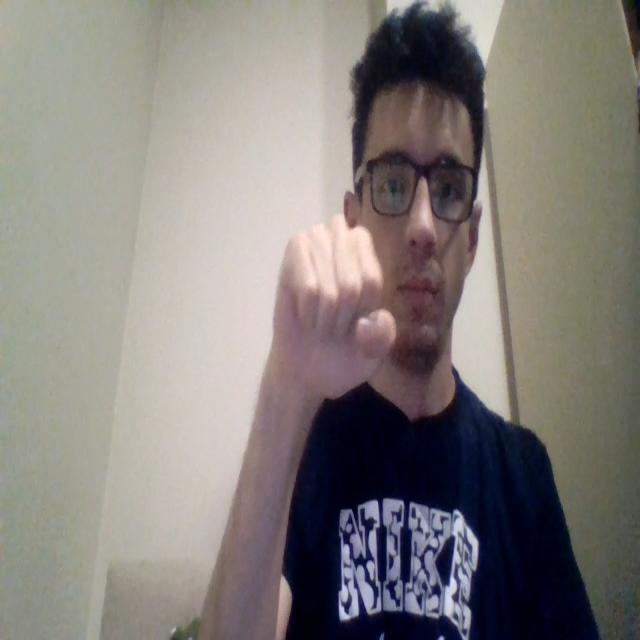yes: (271, 211, 397, 401)
